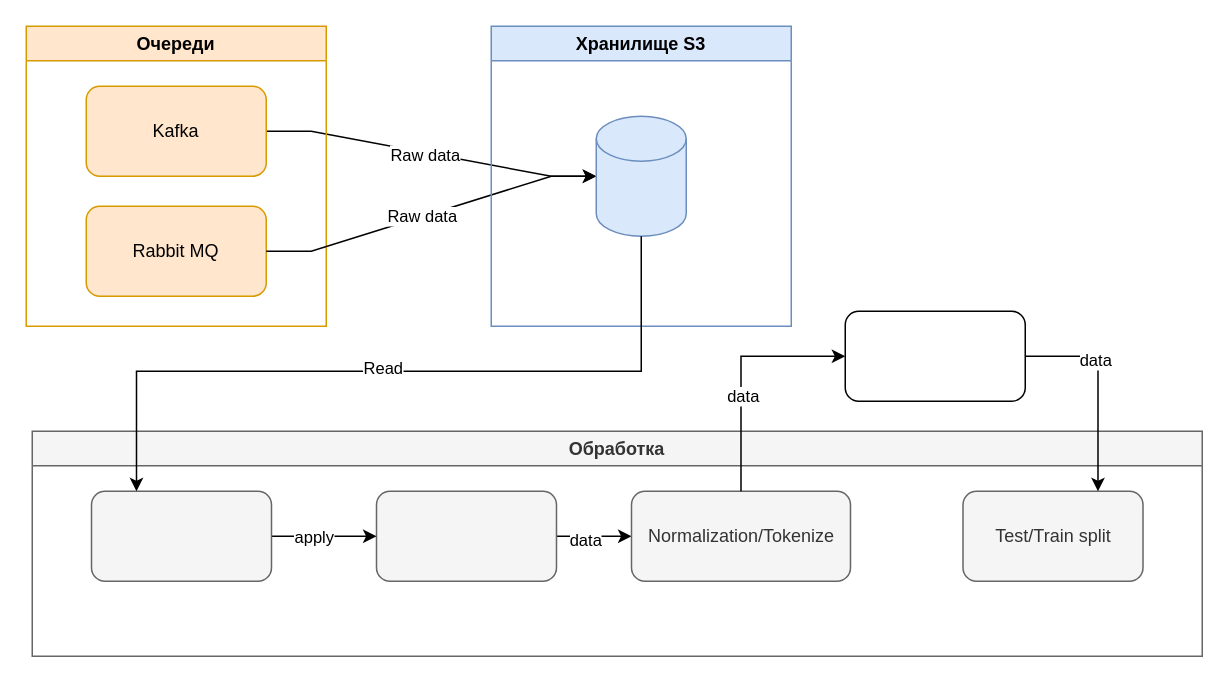
This 1229x683 diagram has some shape labels left out. Here are the shapes that lost their labels. From the top down, the centre of each, then its label:
At point 640,175: "Storage".
At point 934,355: "Валидация".
At point 181,535: "Spark Job".
At point 465,535: "Feature engineering".
